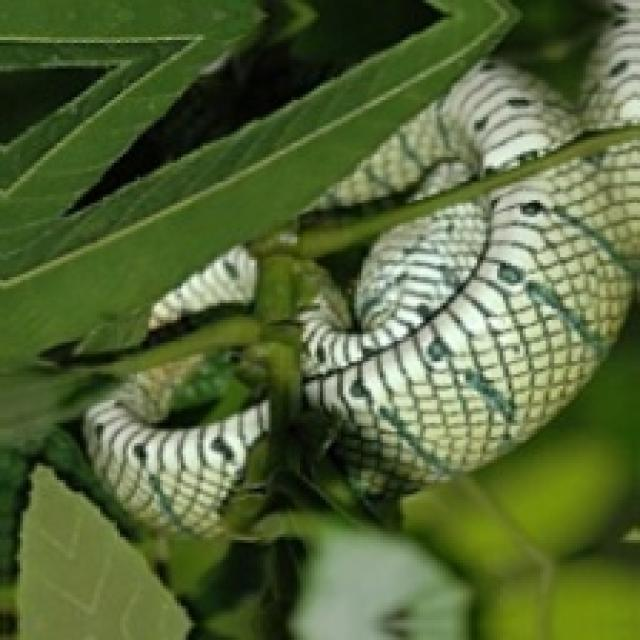north ph temple pitviper: (149, 0, 637, 497), (83, 346, 269, 534)
